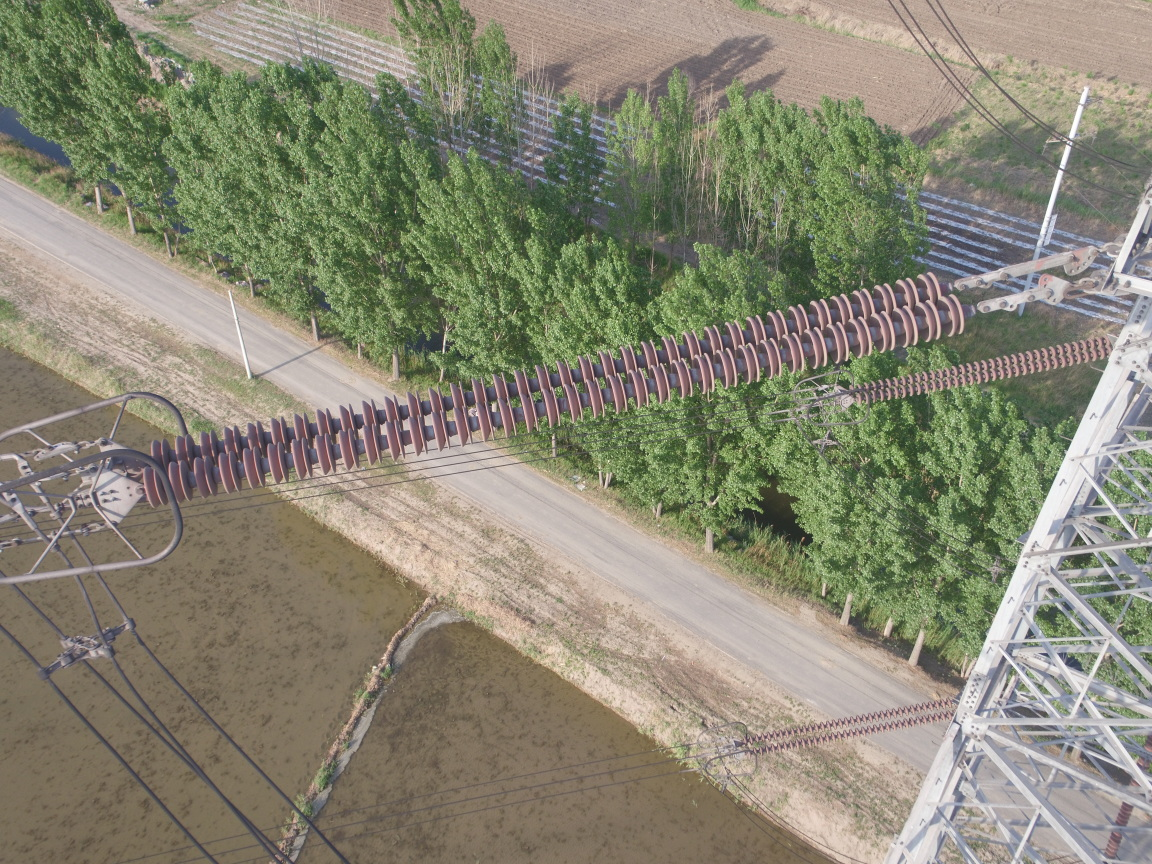insulator: (127, 266, 1020, 510), (839, 335, 1112, 411), (737, 695, 957, 760)
